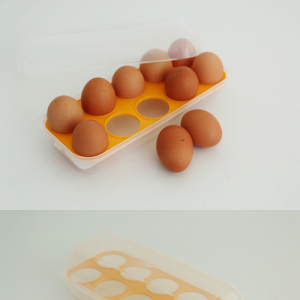egg: (48, 38, 231, 175)
